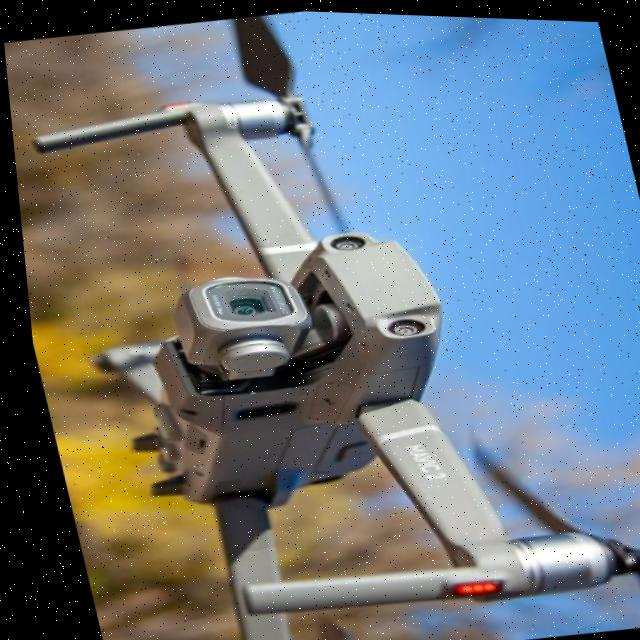drones: (24, 1, 640, 640)
